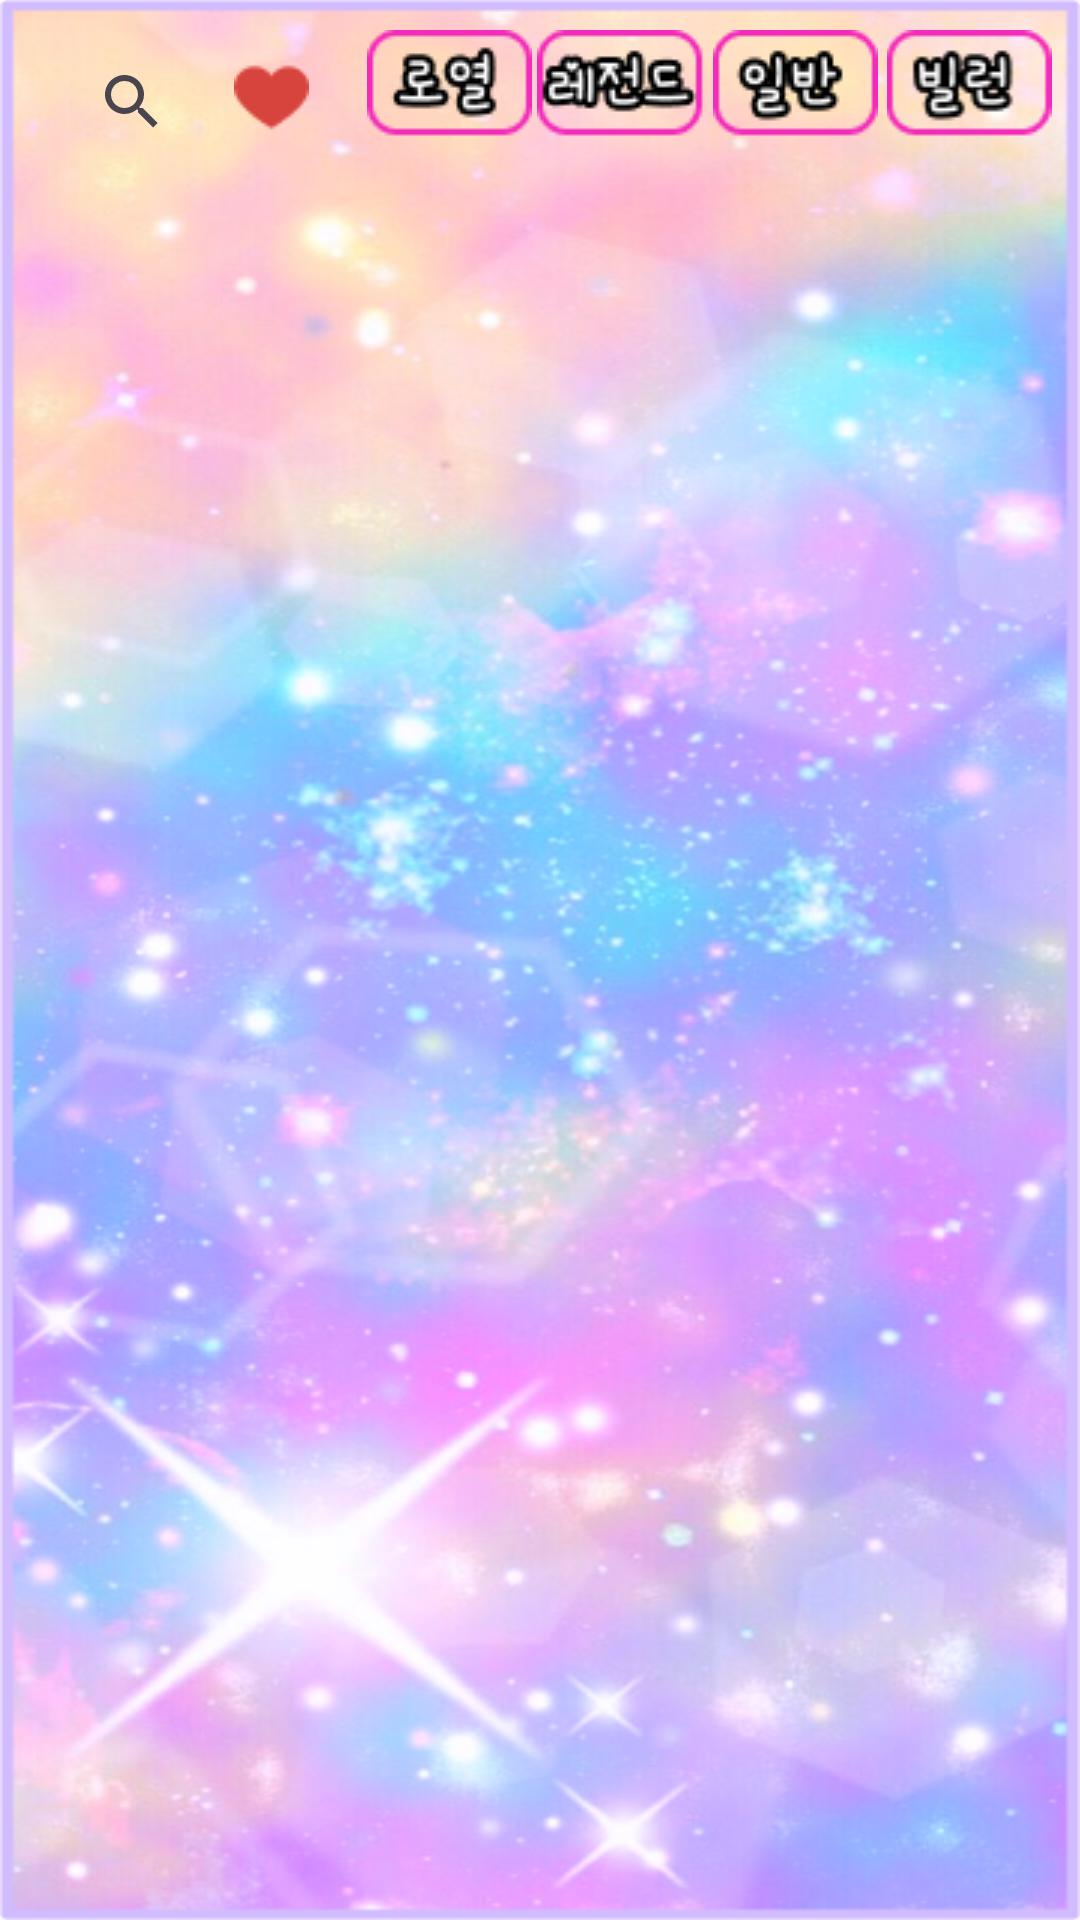

Screen size 1080 x 1920. Icon name, then its box in pixels as (x1, y1, x2, y2):
좋아요: (234, 65, 309, 130)
